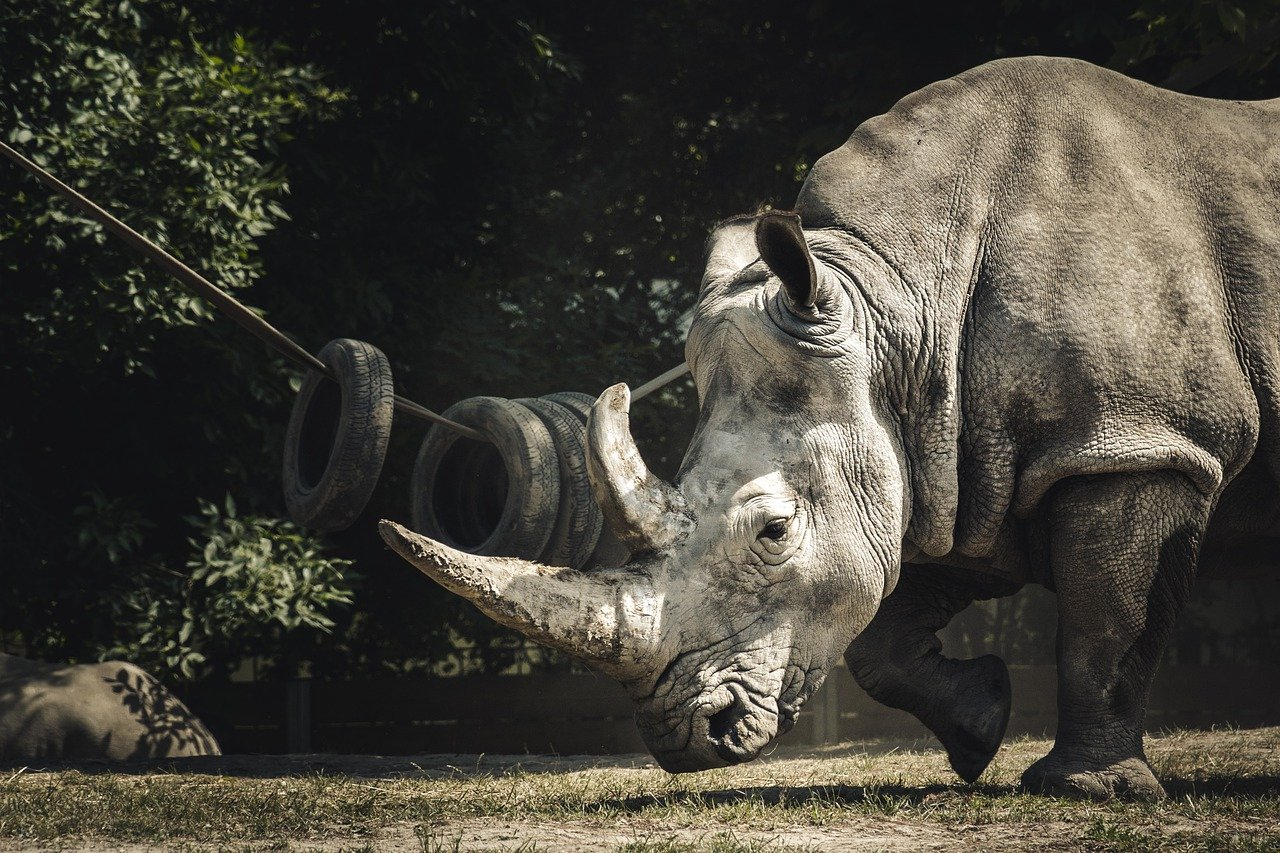Rhinoceros: (340, 55, 1262, 816)
